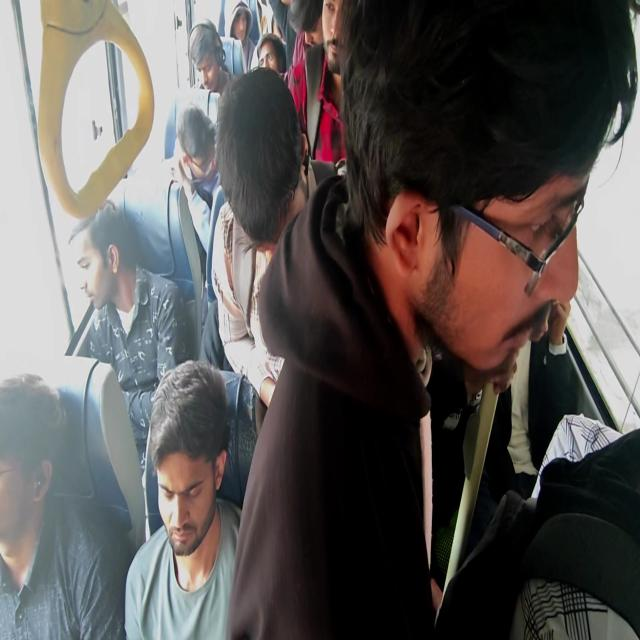person: (1, 370, 132, 640), (432, 170, 584, 388), (150, 367, 228, 555), (289, 2, 348, 167), (166, 101, 222, 261), (0, 373, 66, 471), (71, 200, 134, 272), (256, 32, 288, 76), (220, 37, 248, 80), (196, 49, 223, 90)
